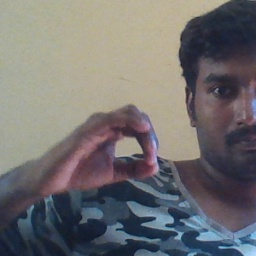O: (31, 101, 166, 199)
